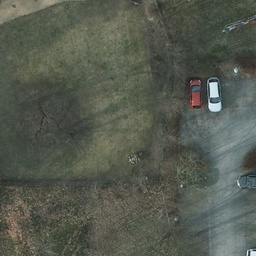car: (206, 78, 225, 114), (189, 77, 203, 109), (236, 172, 256, 190)
